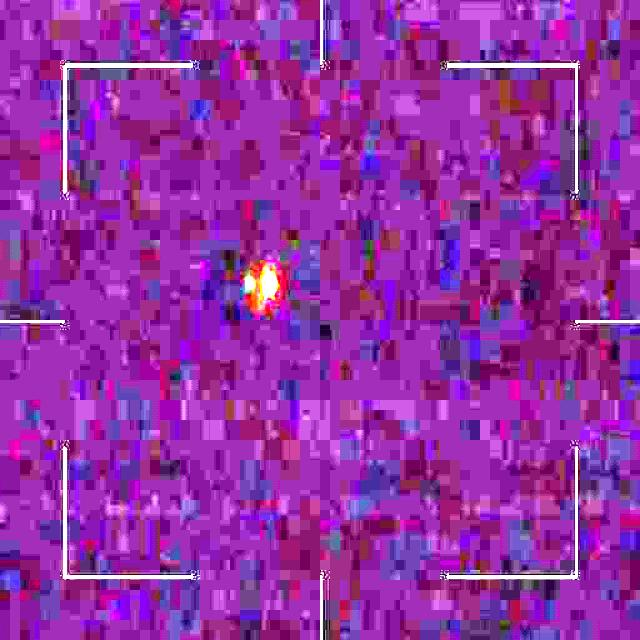bird: (242, 262, 279, 318)
